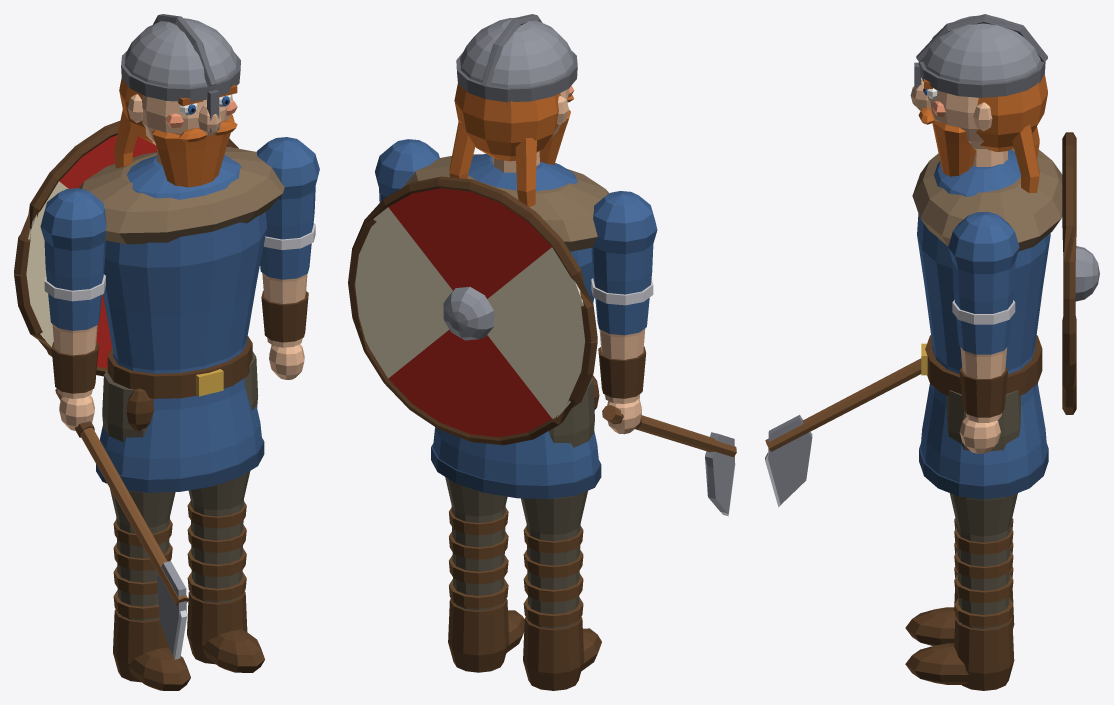
Rendered from viking.obj.
The picture shows the model from 3 angles, left to right: view 1: azimuth 30°, elevation 25°; view 2: azimuth 150°, elevation 25°; view 3: azimuth 270°, elevation 25°; orthographic projection.
Parts seen in each view (by area): view 1: Body_1, Body_5, Right_Arm_17, Left_Arm_13, Head_31, Head_28, Right_Leg_10, Left_Leg_9, Left_Leg_7, Right_Leg_12, Body_2, Shield_40 (+17 smaller); view 2: Shield_38, Shield_37, Body_1, Head_28, Shield_40, Right_Arm_17, Right_Leg_10, Head_31, Body_5, Right_Leg_12, Left_Leg_9, Left_Leg_7 (+11 smaller); view 3: Body_1, Left_Arm_13, Body_5, Left_Leg_7, Head_28, Head_31, Left_Leg_9, Shield_40, Left_Leg_8, Head_32, Left_Arm_14, Weapon_35 (+9 smaller).
Boxes of the visible parts, x1,y1,x2,y2 form: Body_1: [100, 155, 266, 479]; Body_5: [78, 146, 284, 244]; Right_Arm_17: [40, 188, 106, 330]; Left_Arm_13: [256, 137, 319, 279]; Head_31: [124, 18, 237, 87]; Head_28: [114, 78, 237, 187]; Right_Leg_10: [102, 369, 175, 621]; Left_Leg_9: [187, 591, 264, 672]; Left_Leg_7: [188, 351, 258, 602]; Right_Leg_12: [113, 609, 190, 690]; Body_2: [107, 336, 252, 430]; Shield_40: [14, 121, 238, 376]; Shield_38: [355, 207, 584, 418]; Shield_37: [388, 188, 551, 437]; Body_1: [433, 154, 599, 485]; Head_28: [449, 83, 573, 207]; Shield_40: [348, 176, 597, 445]; Right_Arm_17: [591, 191, 657, 335]; Right_Leg_10: [521, 378, 594, 628]; Head_31: [460, 17, 573, 87]; Body_5: [403, 154, 609, 251]; Right_Leg_12: [523, 617, 601, 690]; Left_Leg_9: [448, 598, 524, 672]; Left_Leg_7: [445, 477, 507, 610]; Body_1: [917, 149, 1050, 485]; Left_Arm_13: [948, 212, 1019, 354]; Body_5: [912, 148, 1062, 251]; Left_Leg_7: [946, 390, 1020, 629]; Head_28: [918, 74, 1047, 192]; Head_31: [923, 15, 1040, 83]; Left_Leg_9: [905, 617, 1014, 690]; Shield_40: [1062, 132, 1076, 414]; Left_Leg_8: [954, 527, 1013, 627]; Head_32: [914, 14, 1047, 105]; Left_Arm_14: [959, 347, 1006, 453]; Weapon_35: [768, 415, 812, 504].
Bounding box in the file's own units: 0.8702 × 2 × 0.9376.
